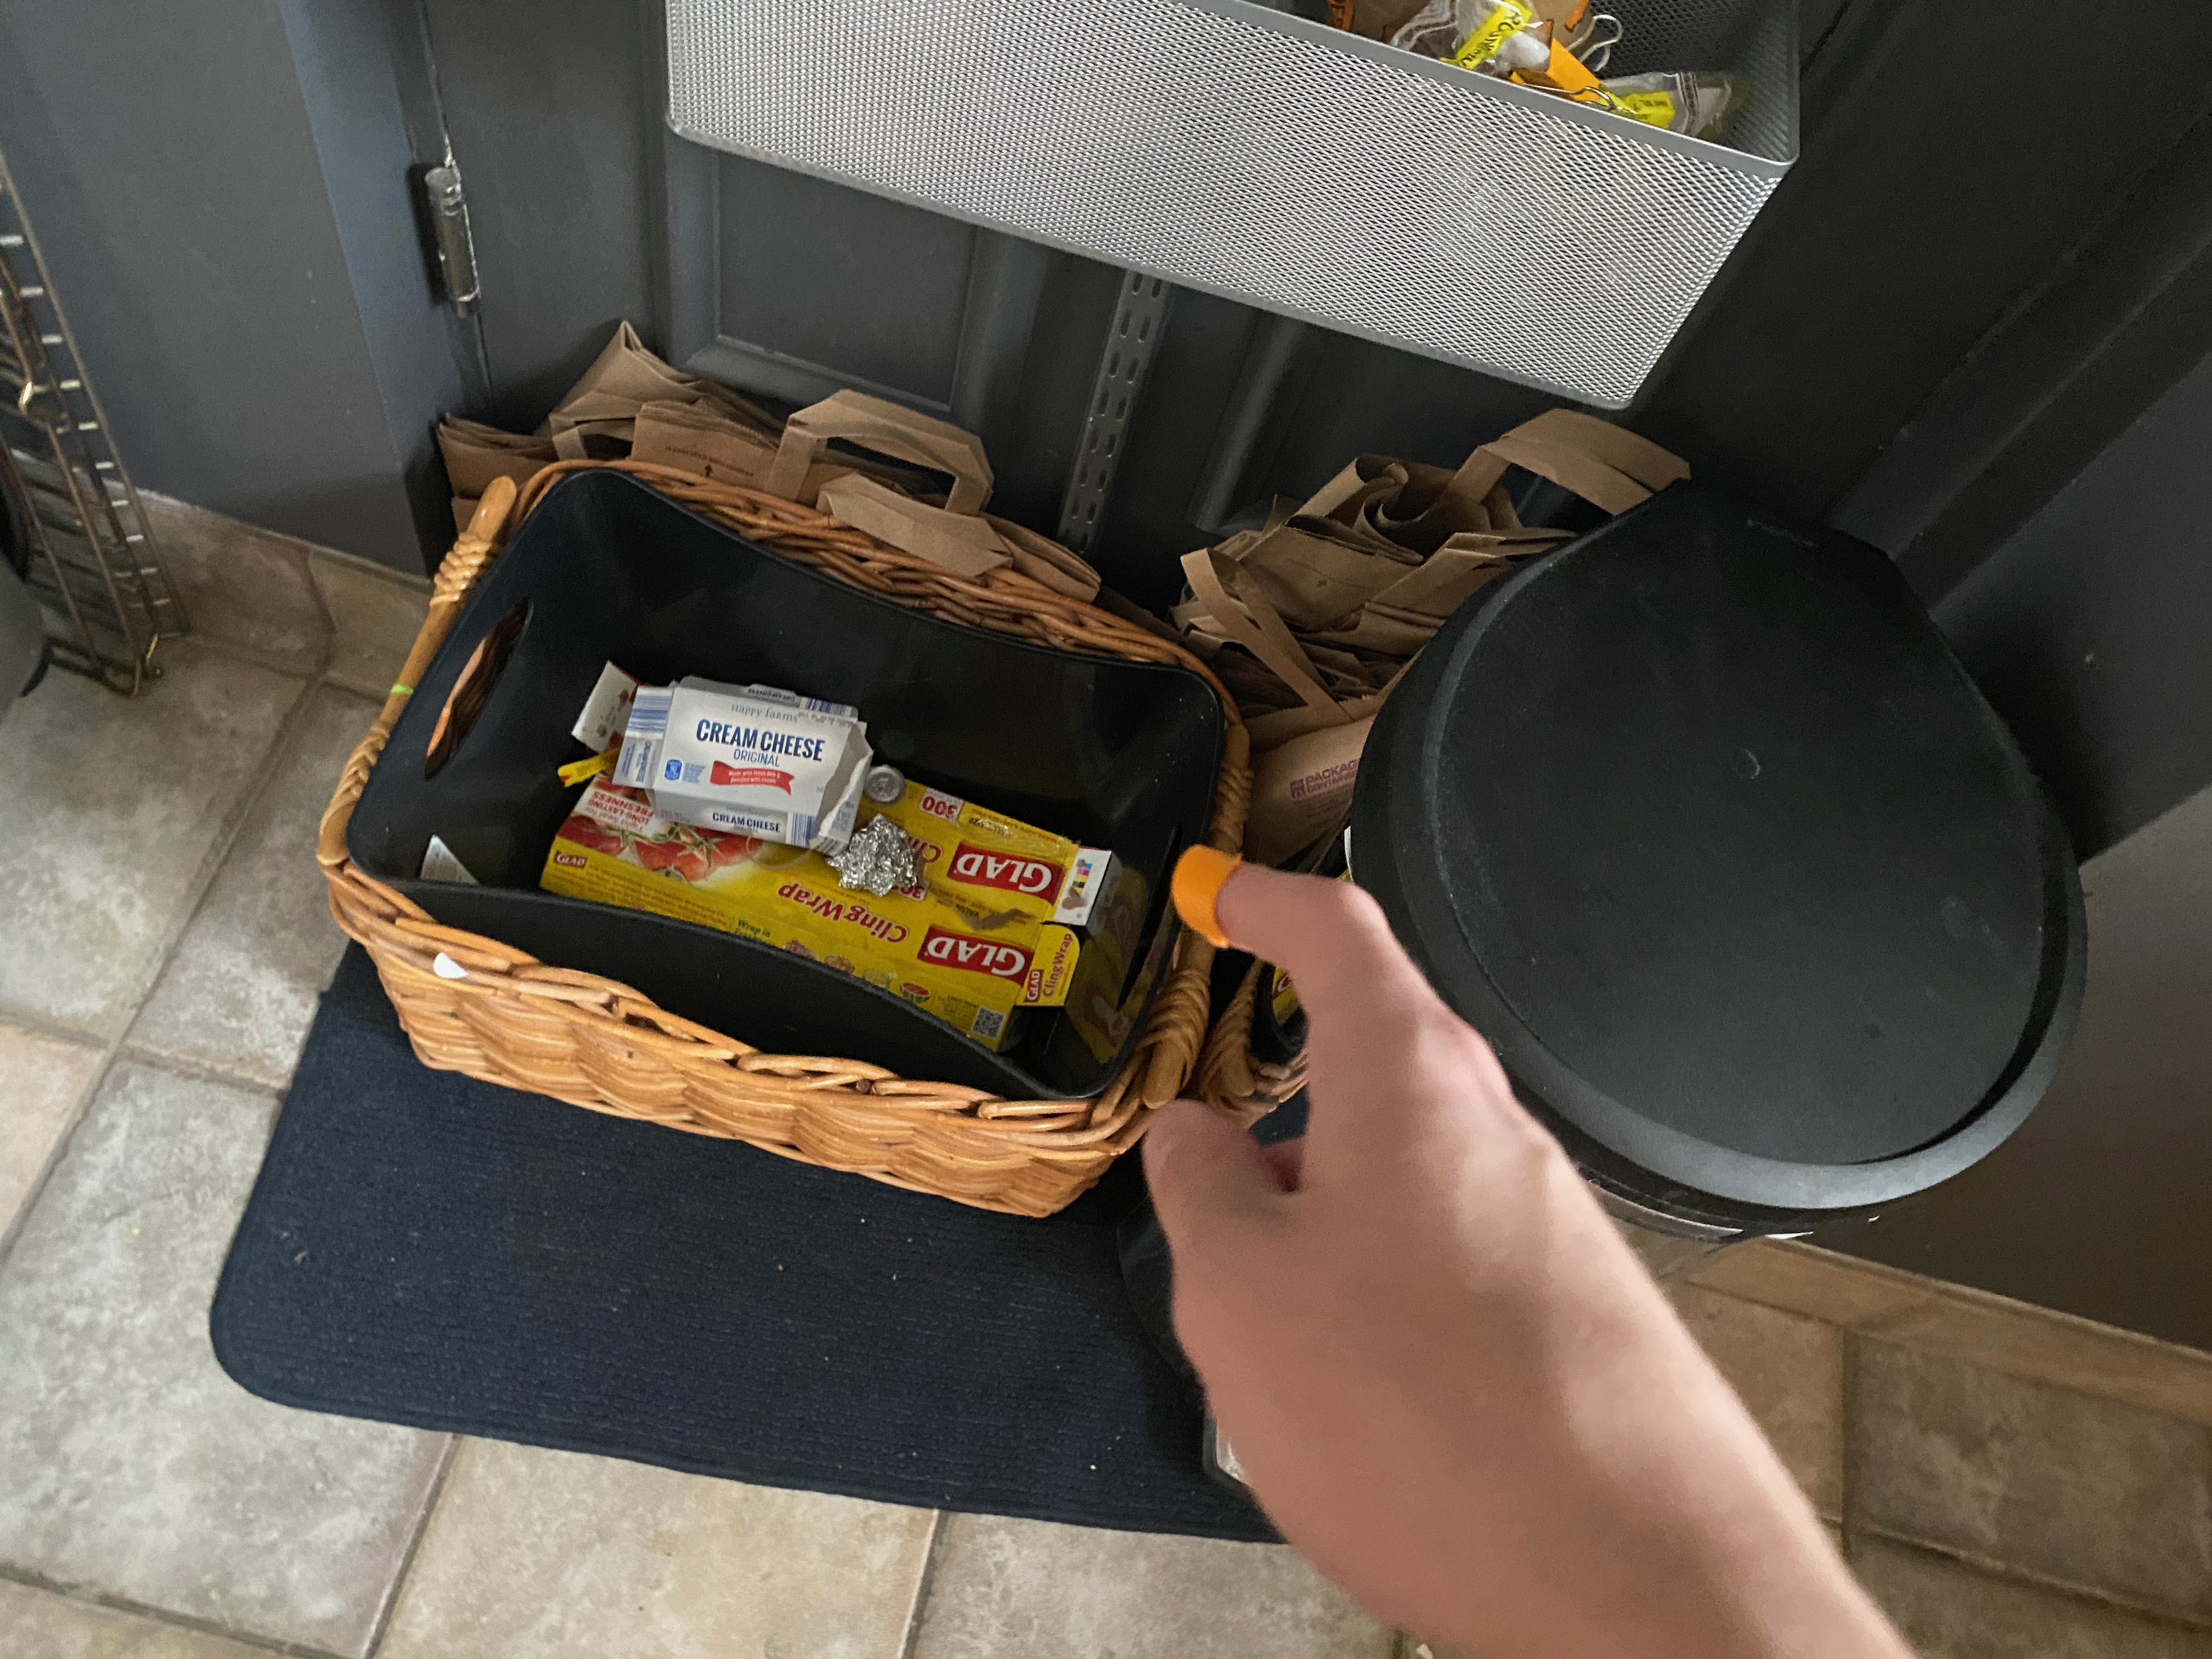fingertip: (1160, 831, 1251, 979)
